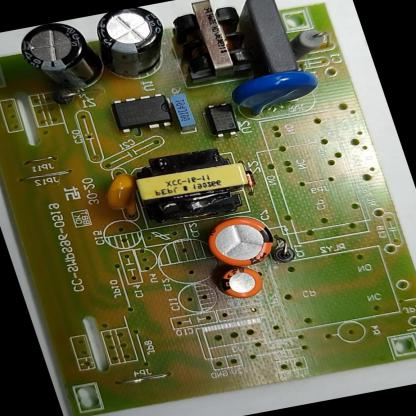Cap1: (197, 209, 283, 276)
Cap2: (218, 263, 270, 301)
Cap3: (86, 4, 178, 84)
Cap4: (9, 16, 109, 98)
MOSFET: (106, 89, 176, 138)
Mov: (224, 66, 327, 114)
Resistor: (287, 23, 333, 61)
Transformer: (127, 140, 262, 228), (163, 0, 262, 89)
